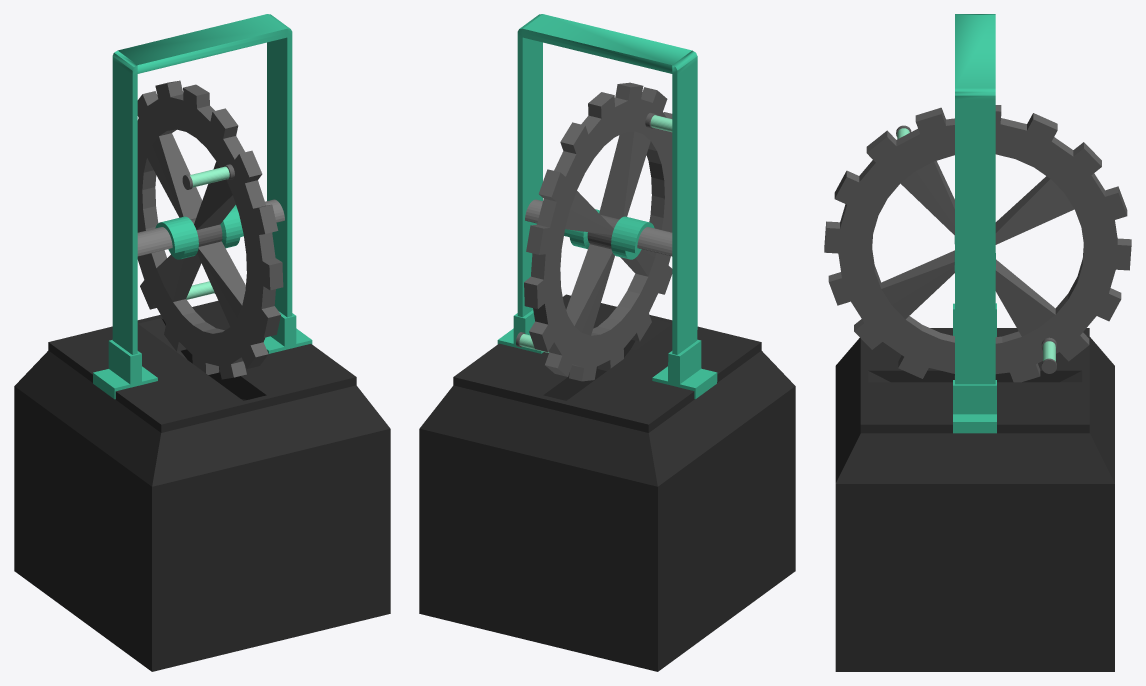
Rendered from WheelActivator.fbx.
3 renders of one model, left to right at view 1: azimuth 30°, elevation 25°; view 2: azimuth 150°, elevation 25°; view 3: azimuth 270°, elevation 25°, orthographic.
Parts seen in each view (by area): view 1: WheelAltar, wheel, wheelstand; view 2: WheelAltar, wheel, wheelstand; view 3: WheelAltar, wheel, wheelstand.
Part boxes in pixels (box(x1,y1,x2,y2)): WheelAltar: box(14, 300, 390, 671); wheel: box(137, 80, 283, 379); wheelstand: box(93, 14, 312, 399); WheelAltar: box(419, 294, 795, 671); wheel: box(516, 82, 672, 381); wheelstand: box(497, 14, 717, 399); WheelAltar: box(835, 328, 1114, 671); wheel: box(824, 105, 1131, 382); wheelstand: box(953, 14, 996, 433).
Bounding box in the file's own units: 200 × 443 × 220.
